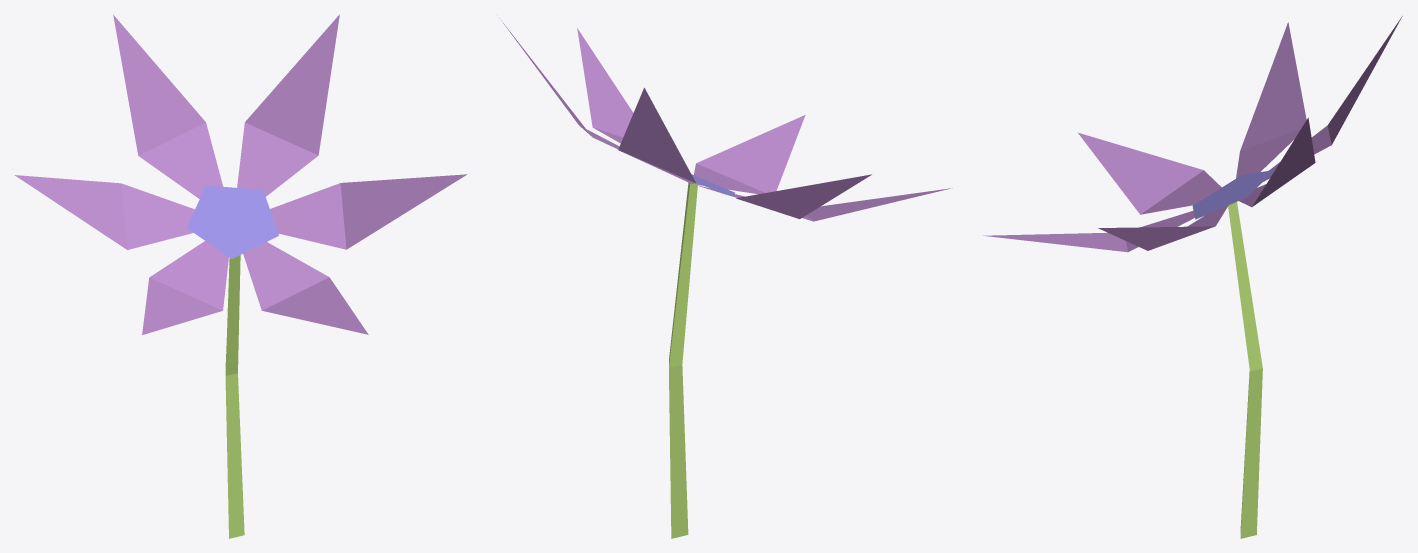
File: Flower_b_OneS_03.fbx
3 renders of one model, left to right at view 1: azimuth 30°, elevation 25°; view 2: azimuth 150°, elevation 25°; view 3: azimuth 270°, elevation 25°, orthographic. The views are drawn at different scales.
Parts seen in each view (by area): view 1: Flower_b_OneS_03; view 2: Flower_b_OneS_03; view 3: Flower_b_OneS_03.
Part boxes in pixels (x1,y1,x2,y2): Flower_b_OneS_03: (14,14,466,538); Flower_b_OneS_03: (501,20,952,538); Flower_b_OneS_03: (983,16,1402,538).
Bounding box in the file's own units: 36.19 × 45.49 × 34.91.
